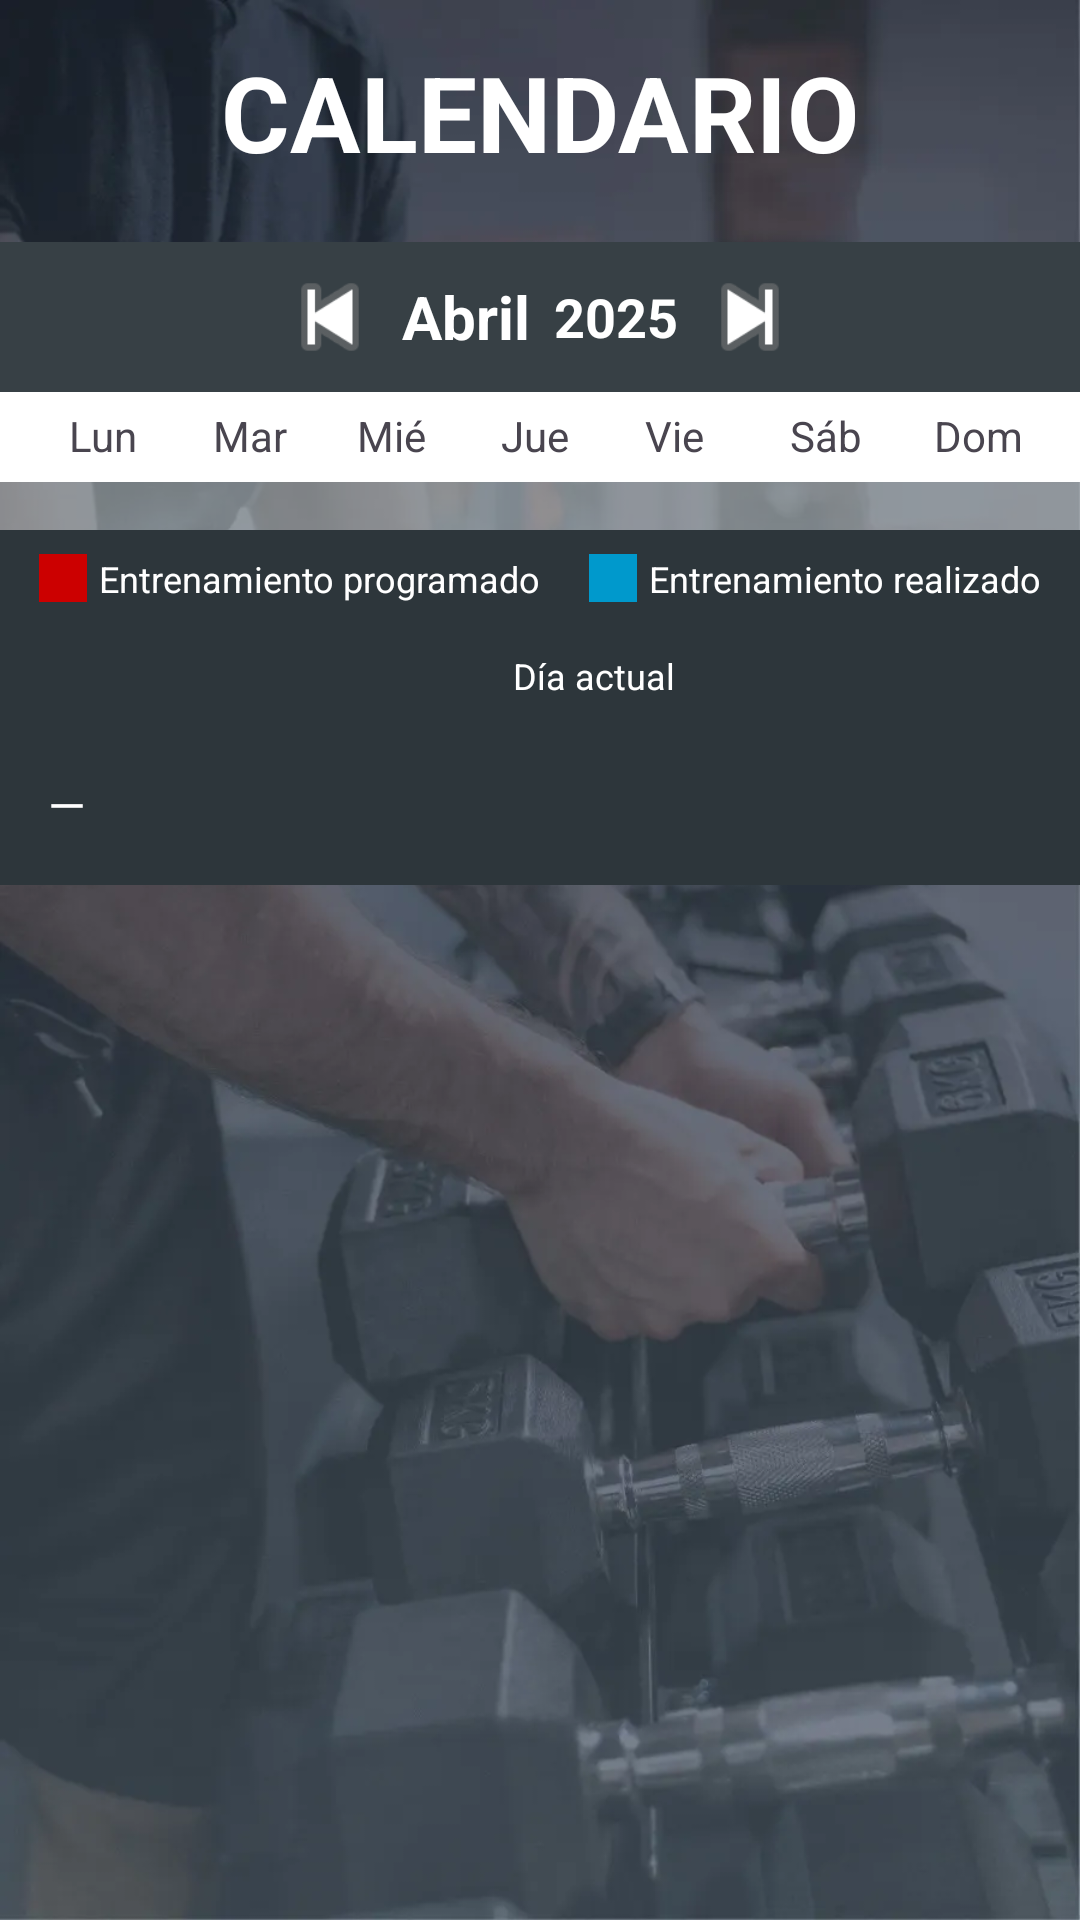

Point at icon controls on the screen. Image size 1080 x 1920, points as (x,y).
next: (750,317)
previous: (330,317)
